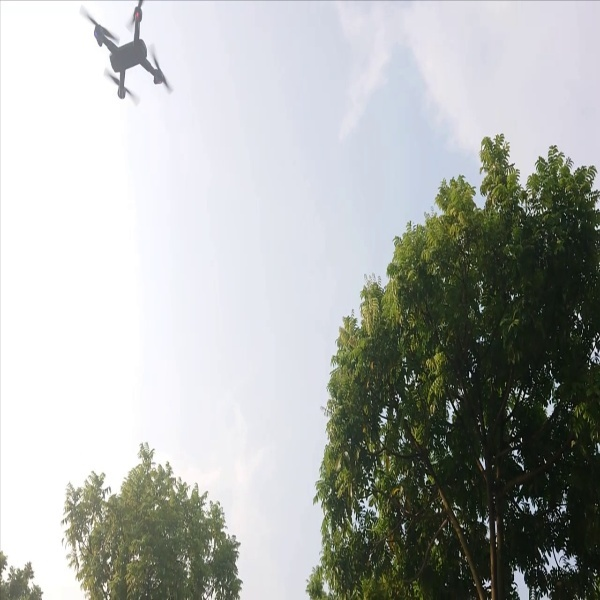drone: (73, 1, 188, 115)
